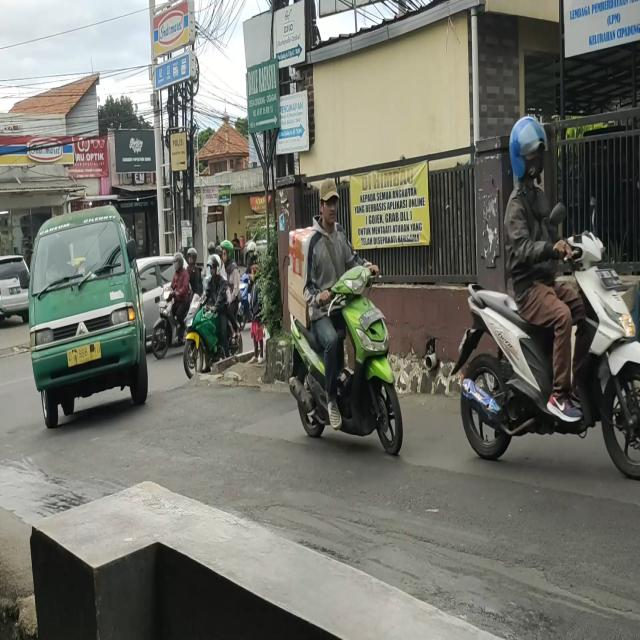helmet: (508, 122, 546, 184), (208, 254, 221, 286), (222, 239, 237, 265), (187, 248, 200, 269), (173, 255, 184, 277)
no-helmet: (317, 182, 342, 227)
